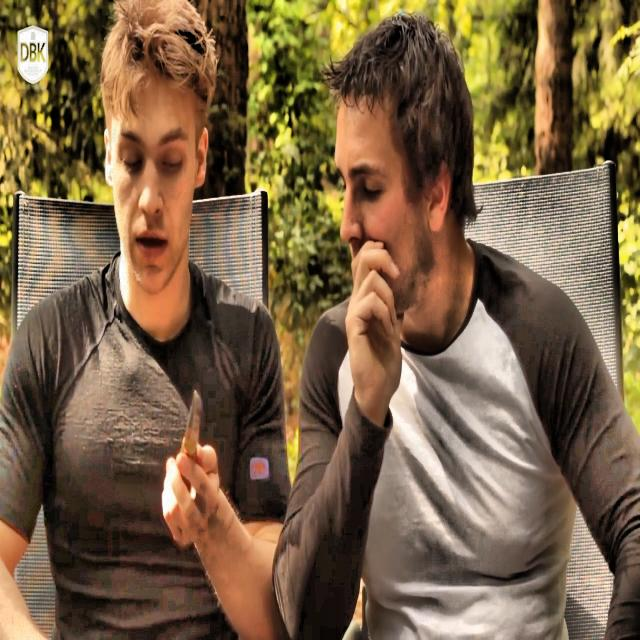knife: (179, 389, 201, 496)
